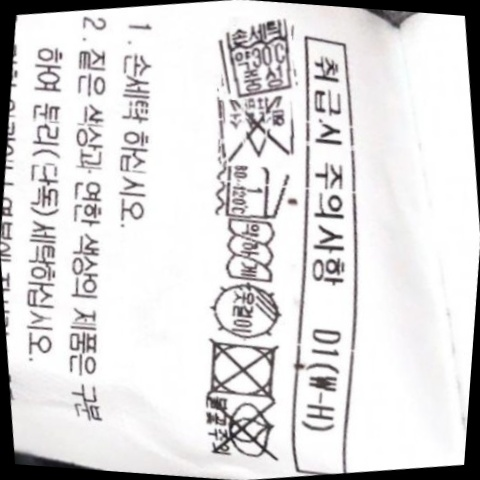DN_tumble_dry: (192, 327, 290, 409)
hand_wash: (212, 15, 305, 102)
iron_low: (213, 155, 293, 228)
line_dry_in_shade: (201, 274, 292, 347)
wring: (215, 213, 284, 290)
